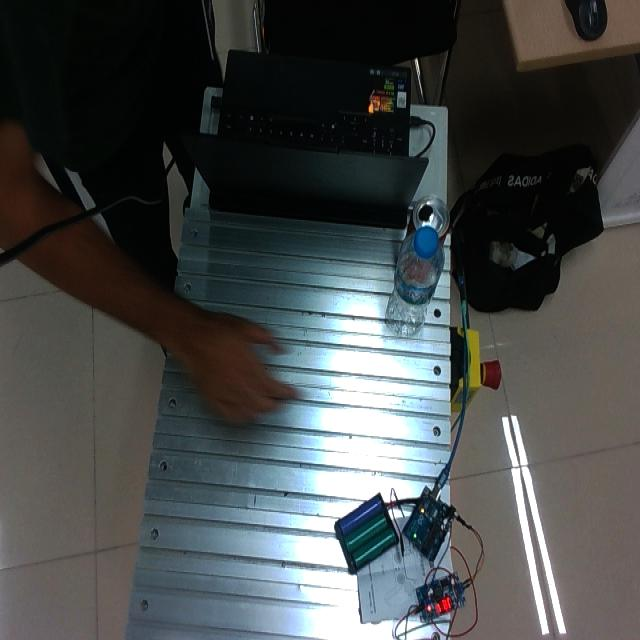coca: (410, 195, 451, 240)
lavie: (385, 219, 445, 336)
